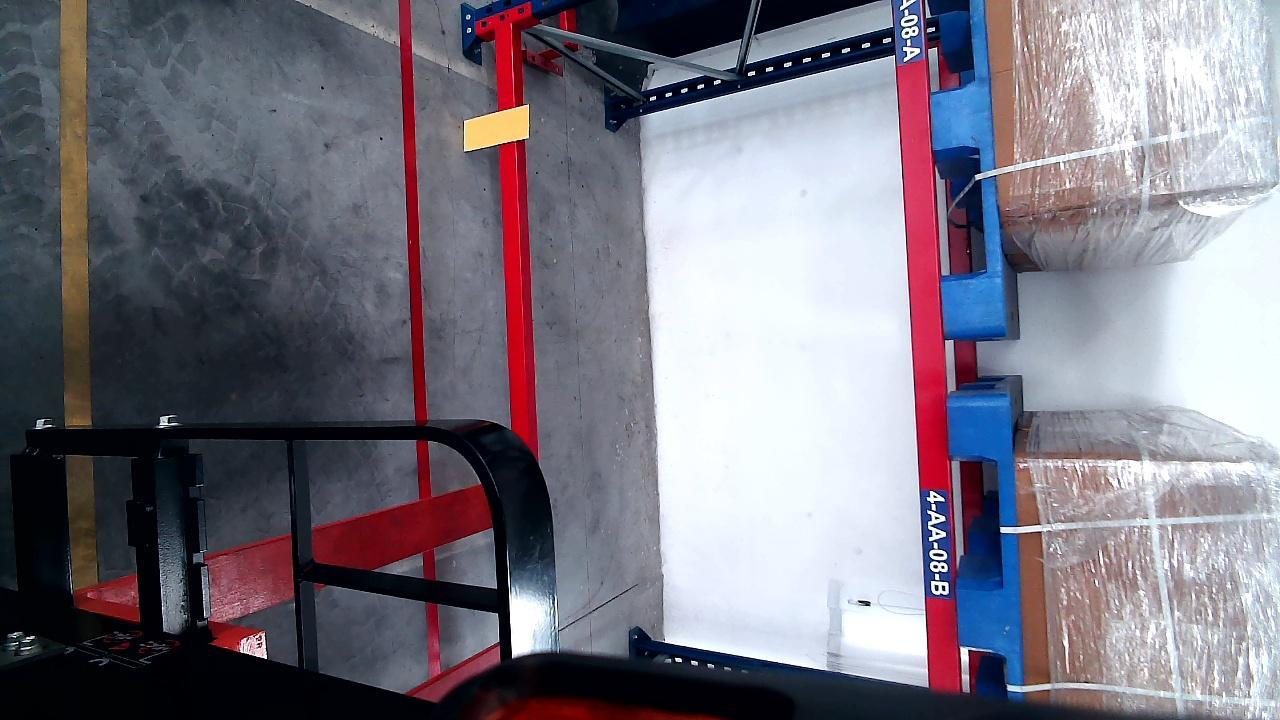red_line: (398, 0, 430, 499)
yellow_line: (59, 1, 100, 588)
